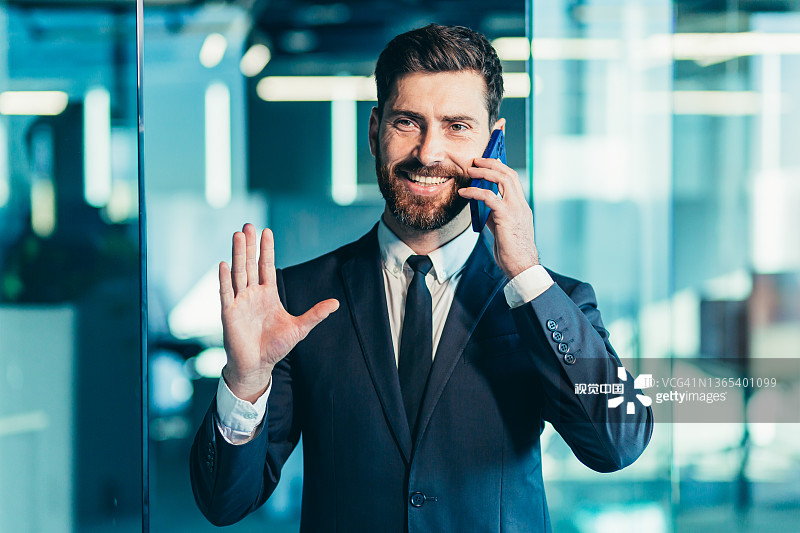calling: (453, 130, 555, 280)
no-phone: (208, 216, 351, 391)
